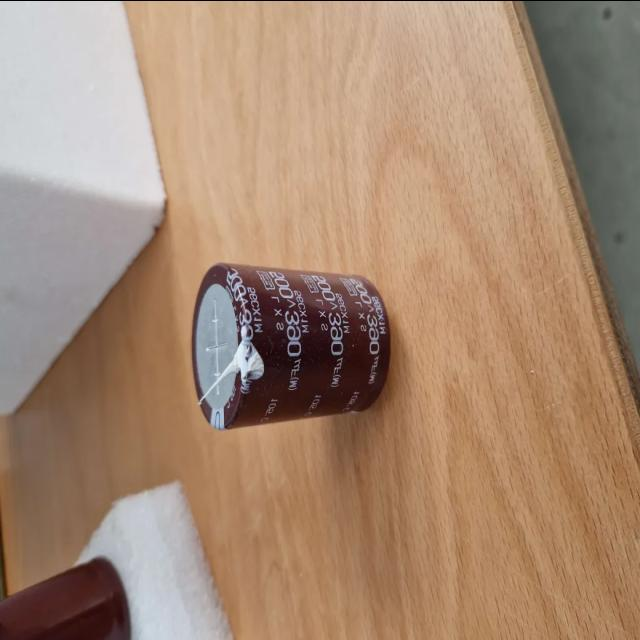C: (193, 263, 390, 429), (0, 558, 130, 640)
